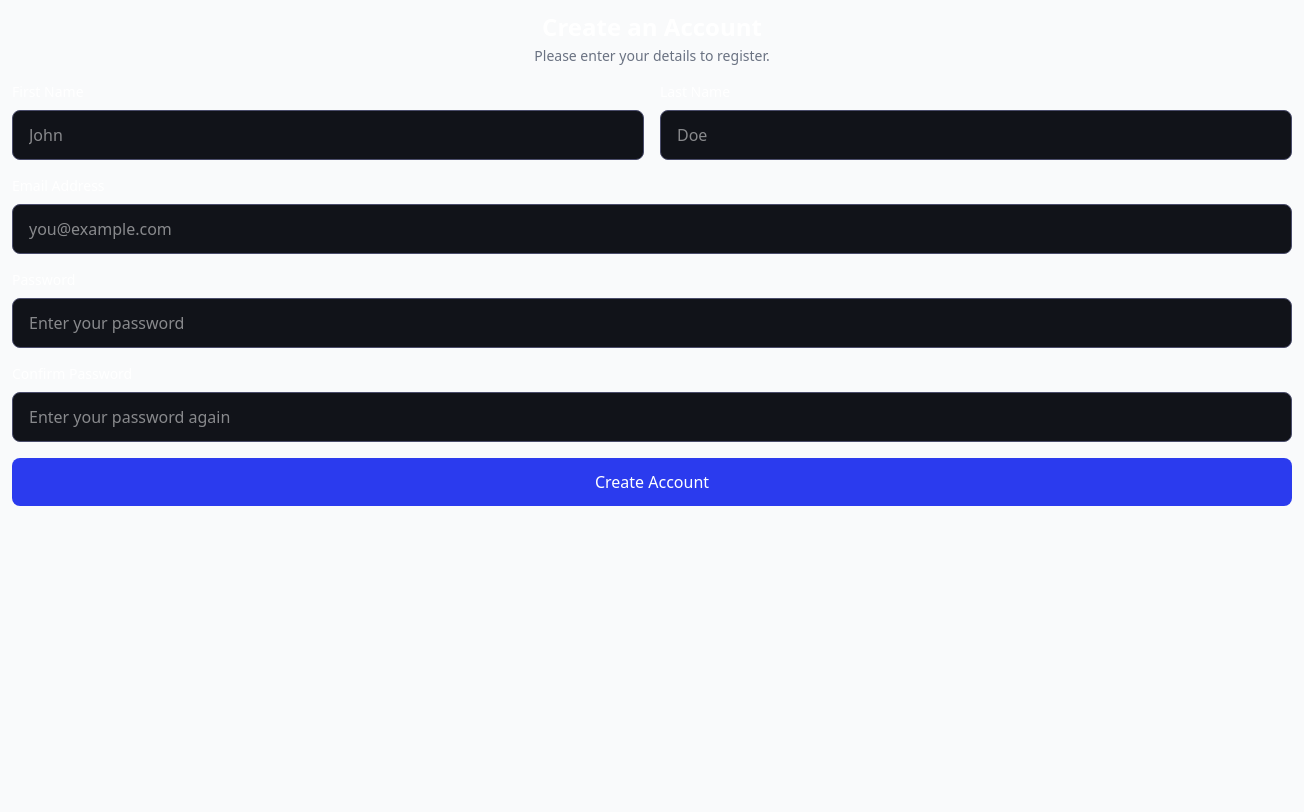
Scenario: RegisterForm - Integration Tests › should validate required firstName field
The width and height of the screenshot is (1304, 812).
Click the button "Create Account".
click(652, 482)  # box [12, 458, 1292, 506]
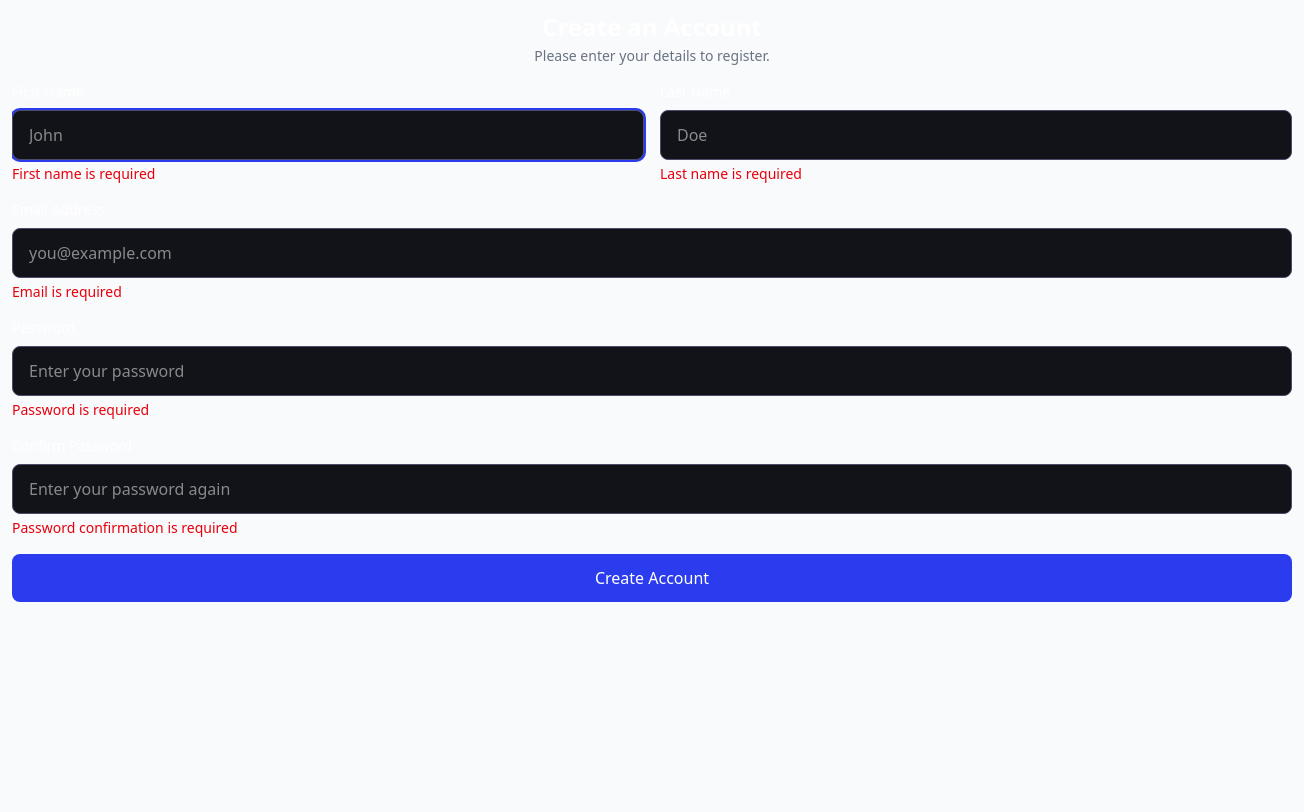
Result: the text "First name is required" is shown at [12, 164, 155, 183]
